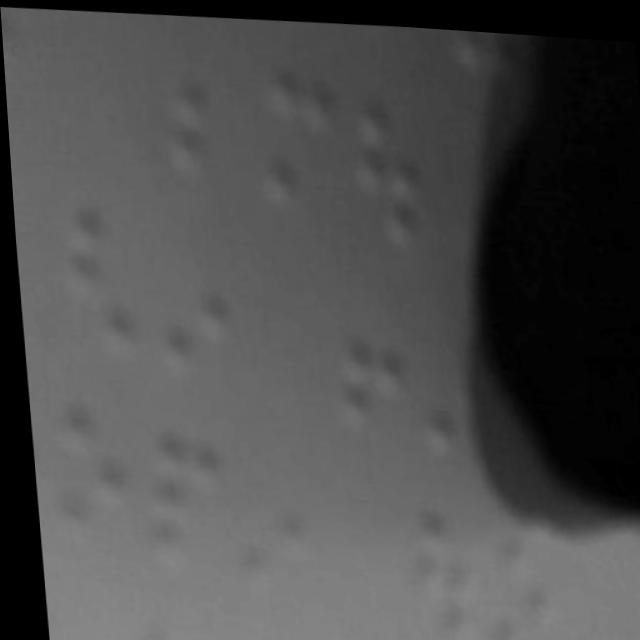braiile: (346, 91, 445, 244), (161, 27, 250, 178), (249, 64, 341, 210), (33, 399, 125, 545), (226, 446, 313, 599), (151, 227, 234, 384), (325, 288, 411, 439), (54, 200, 138, 353), (136, 430, 219, 575), (400, 505, 482, 640), (483, 525, 557, 640)
